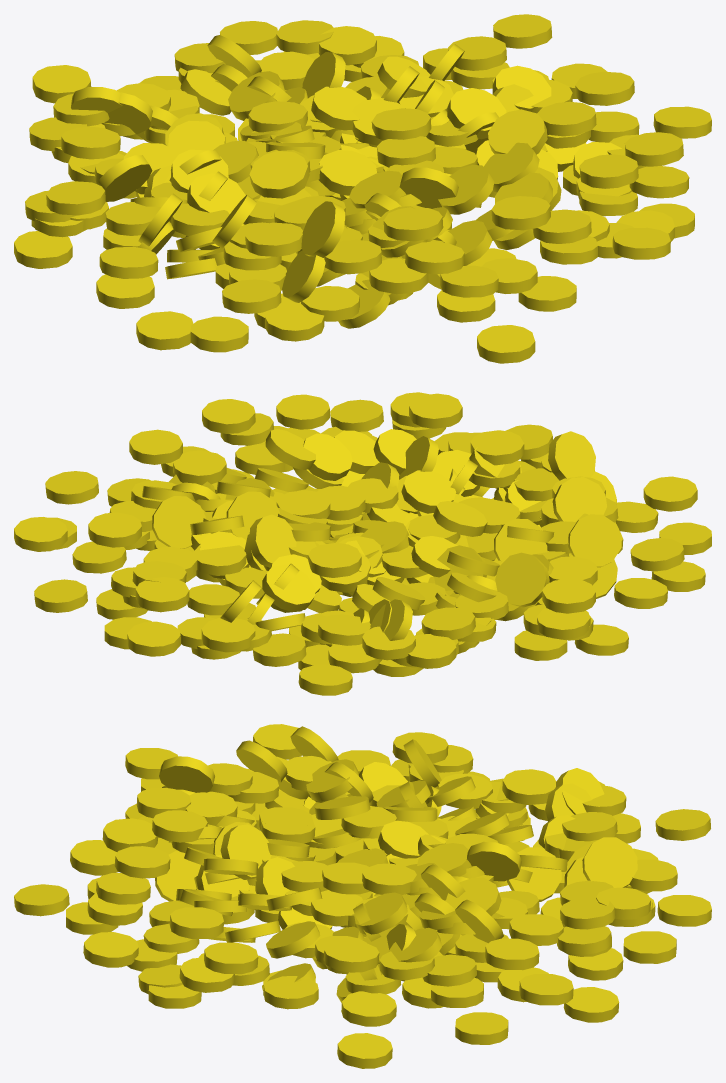
File: coins.glb
3 renders of one model, top to bottom at view 1: azimuth 30°, elevation 25°; view 2: azimuth 150°, elevation 25°; view 3: azimuth 270°, elevation 25°, orthographic. The views are drawn at different scales.
Parts seen in each view (by area): view 1: Object_3, Object_4; view 2: Object_3, Object_4; view 3: Object_3, Object_4.
Part boxes in pixels (<box>): Object_3: <box>14,14,711,352</box>; Object_4: <box>14,26,711,363</box>; Object_3: <box>14,392,711,685</box>; Object_4: <box>14,405,711,695</box>; Object_3: <box>14,724,711,1058</box>; Object_4: <box>14,726,711,1068</box>.
Bounding box in the file's own units: 1.67 × 0.2828 × 1.64.
